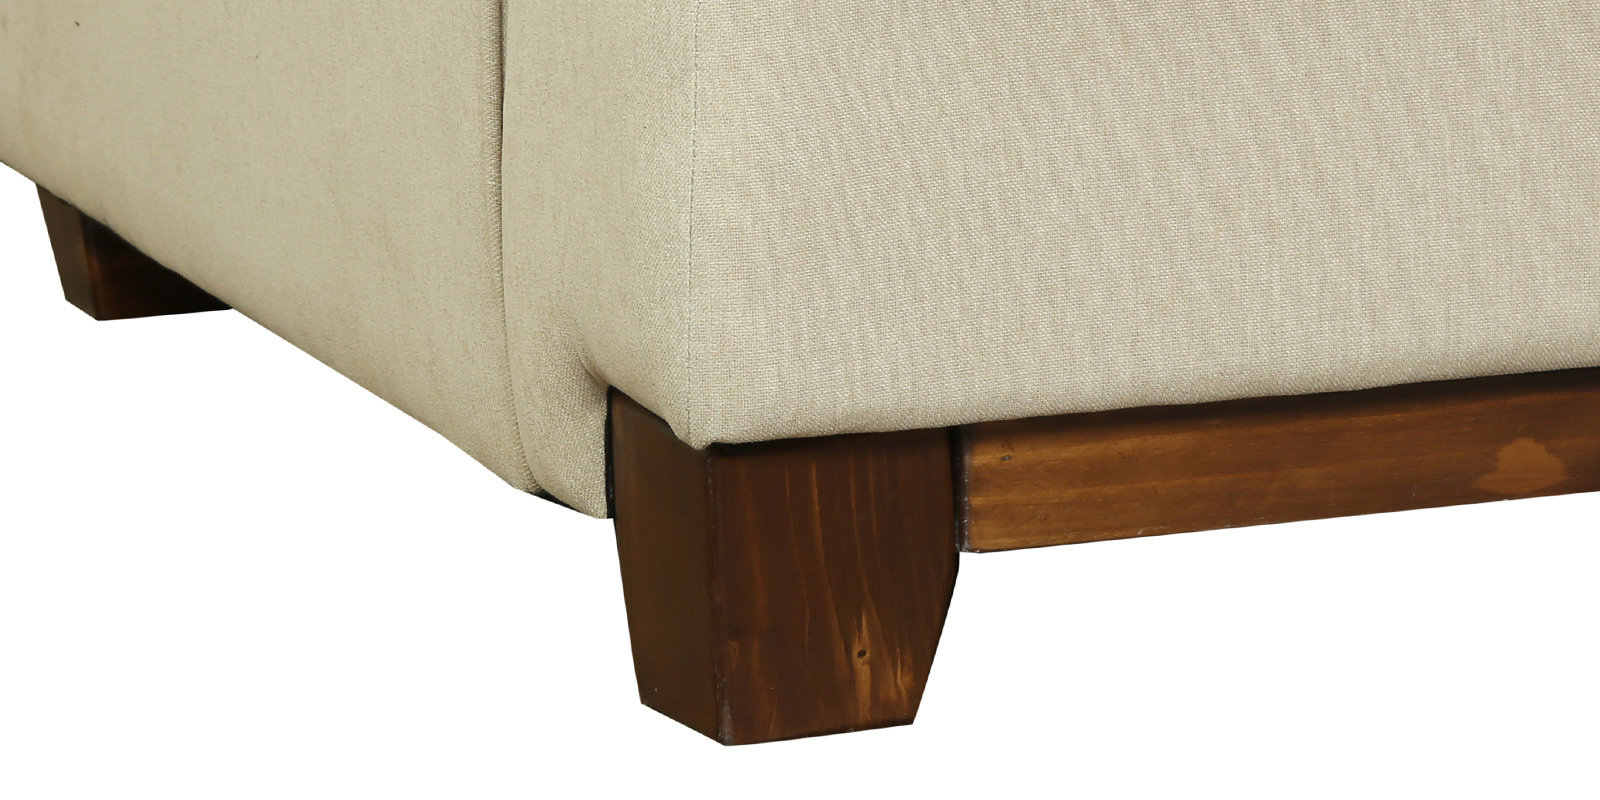Parana Three Seater Sofa in Beige Color by CasaCraft: (2, 1, 1600, 747)
